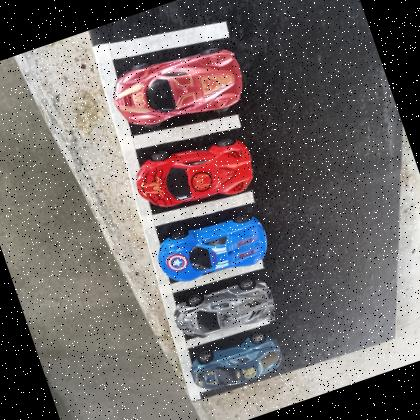Car: (104, 32, 252, 144), (128, 124, 262, 223), (150, 202, 274, 294), (168, 270, 282, 351), (186, 327, 288, 398)
